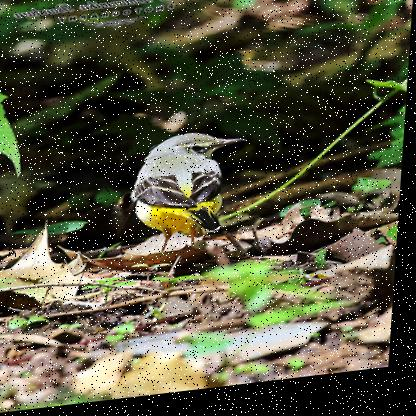Burung: (128, 131, 251, 268)
